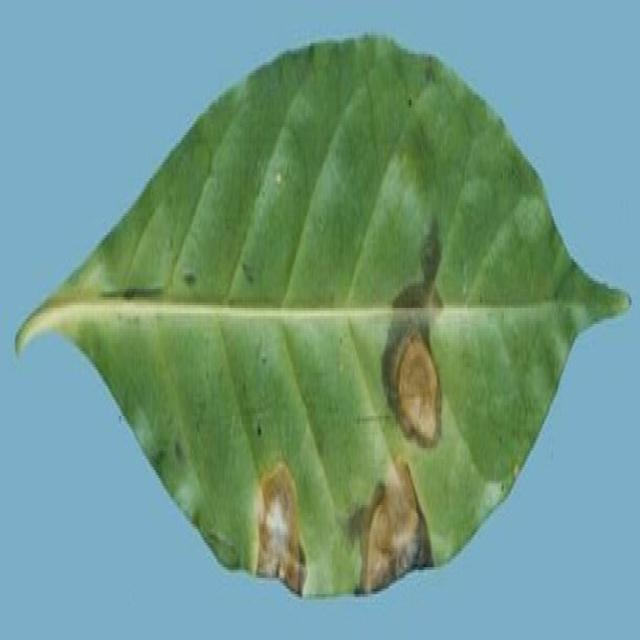Enfermedad-Mancha-de-hierro: (56, 35, 631, 602)
